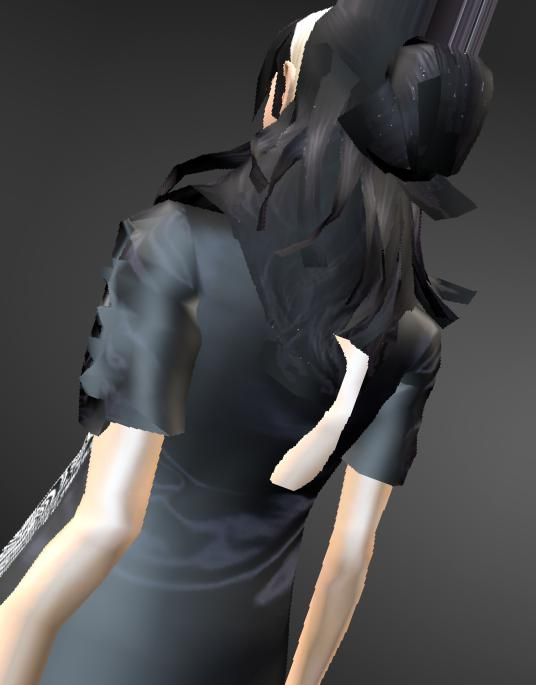clip: (319, 320, 382, 410)
